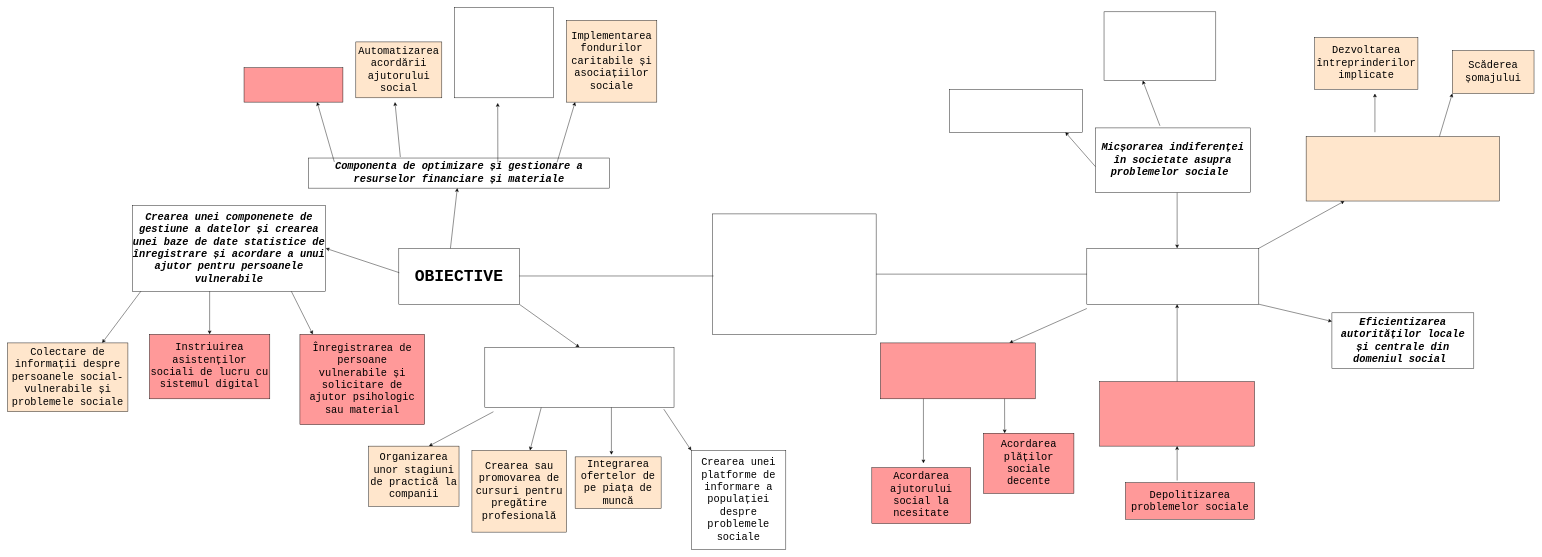
Some shapes in this 1542 by 557 pixel diagram are drawn without their labels. The box of each missing label's shape, as (x1, y1, x2, y2) in pixels:
Automatizarea plăților sociale: (244, 67, 343, 102)
Crearea unei componente de reprofilare profesională și de informare a populației: (484, 347, 674, 407)
Crearea unui algoritm de completare a diferitelor documente necesare: (454, 7, 554, 98)
Crearea unui sistem transparent de acordare a ajutorului social: (1099, 381, 1255, 446)
Creșterea abilităților profesionale ale persoanelor vulnerabile: (1306, 136, 1500, 201)
Creșterea toleranței față de persoanele nevoiașe: (1104, 11, 1216, 81)
Planificarea bugetului de stat în urma celor mai actuale date statistice: (880, 342, 1035, 399)
Reintegrarea persoanelor din păturile social- vulnerabile și combaterea sărăciei: (712, 213, 876, 334)
REZULTATE SCOP: (1086, 248, 1259, 304)
Scăderea prejudecăților asupra problemelor sociale: (949, 89, 1083, 132)
